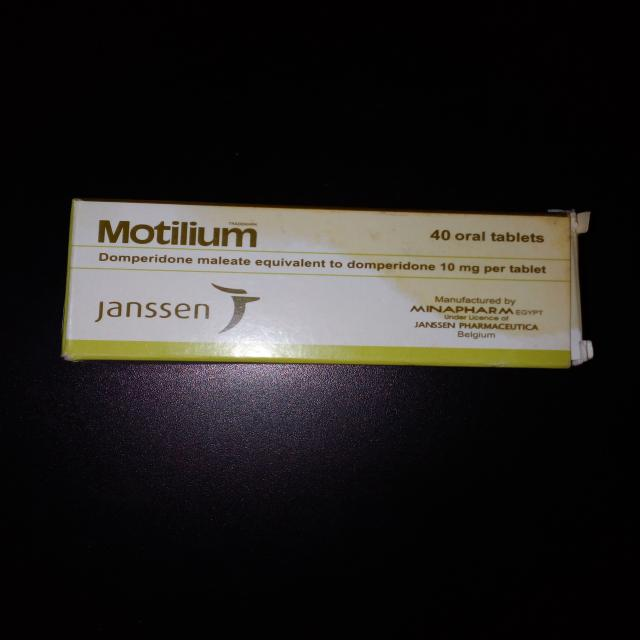Medicine: (60, 197, 599, 374)
